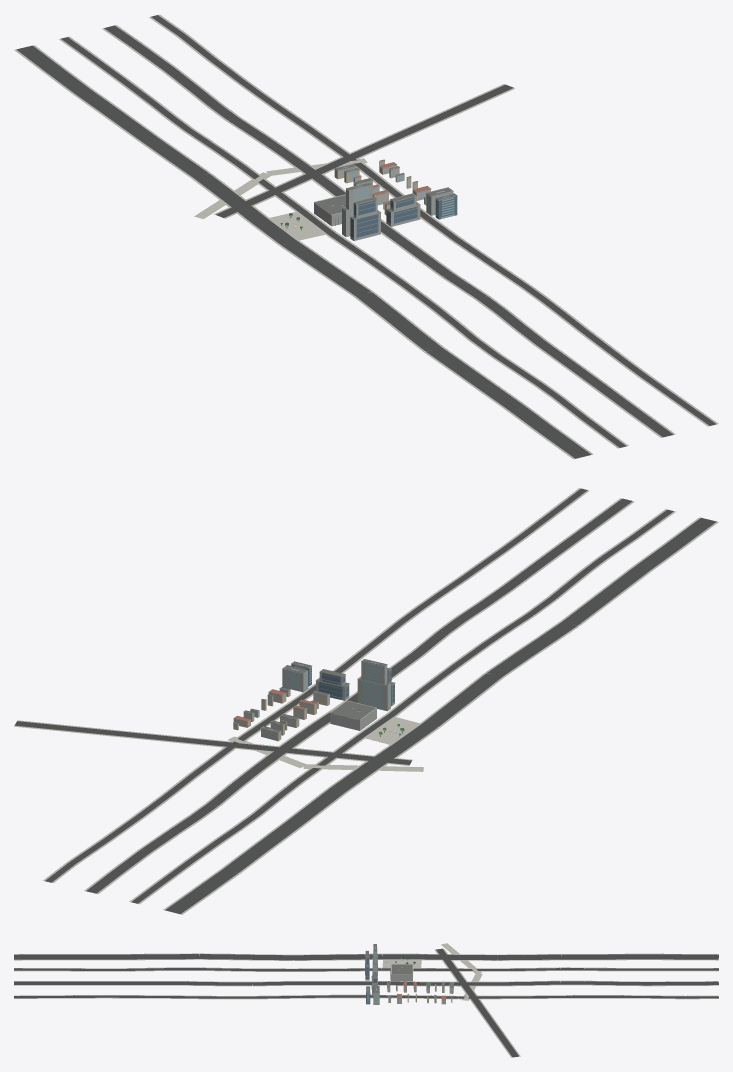
File: tile-p001-p000.glb
The picture shows the model from 3 angles, top to bottom: view 1: azimuth 30°, elevation 25°; view 2: azimuth 150°, elevation 25°; view 3: azimuth 270°, elevation 25°; orthographic projection. The views are drawn at different scales.
Parts seen in each view (by area): view 1: road-v-12-mesh-1, road-v-14-mesh-5, road-v-13-mesh-3, road-v-15-mesh-7, road-v-13-mesh-2, road-v-12-mesh-0, road-v-15-mesh-6, road-v-14-mesh-4, road-radial-1-0-mesh-9, road-radial-1-0-mesh-8, plaza-block-206-mesh-12; view 2: road-v-12-mesh-1, road-v-14-mesh-5, road-v-13-mesh-3, road-v-15-mesh-7, road-v-13-mesh-2, road-v-12-mesh-0, road-v-15-mesh-6, road-v-14-mesh-4, road-radial-1-0-mesh-9, road-radial-1-0-mesh-8, plaza-block-206-mesh-12, building-0871-mesh-22; view 3: road-v-12-mesh-1, road-v-14-mesh-5, road-v-15-mesh-7, road-v-13-mesh-3, road-v-12-mesh-0, road-v-15-mesh-6, road-v-14-mesh-4, road-v-13-mesh-2, road-radial-1-0-mesh-9, road-radial-1-0-mesh-8, plaza-block-206-mesh-12, road-pedestrian-civic-mesh-11 (+1 smaller).
Boxes of the visible parts, x1=… form: road-v-12-mesh-1: x1=16, y1=45, x2=591, y2=458; road-v-14-mesh-5: x1=104, y1=25, x2=673, y2=437; road-v-13-mesh-3: x1=61, y1=37, x2=626, y2=447; road-v-15-mesh-7: x1=151, y1=15, x2=716, y2=425; road-v-13-mesh-2: x1=59, y1=36, x2=628, y2=448; road-v-12-mesh-0: x1=14, y1=45, x2=593, y2=459; road-v-15-mesh-6: x1=149, y1=14, x2=718, y2=426; road-v-14-mesh-4: x1=102, y1=25, x2=675, y2=437; road-radial-1-0-mesh-9: x1=216, y1=84, x2=513, y2=217; road-radial-1-0-mesh-8: x1=214, y1=84, x2=515, y2=218; plaza-block-206-mesh-12: x1=267, y1=212, x2=324, y2=240; road-v-12-mesh-1: x1=165, y1=517, x2=716, y2=914; road-v-14-mesh-5: x1=86, y1=498, x2=632, y2=893; road-v-13-mesh-3: x1=131, y1=509, x2=673, y2=903; road-v-15-mesh-7: x1=45, y1=488, x2=587, y2=882; road-v-13-mesh-2: x1=129, y1=509, x2=675, y2=904; road-v-12-mesh-0: x1=163, y1=517, x2=718, y2=914; road-v-15-mesh-6: x1=43, y1=488, x2=589, y2=883; road-v-14-mesh-4: x1=84, y1=498, x2=634, y2=894; road-radial-1-0-mesh-9: x1=14, y1=721, x2=411, y2=764; road-radial-1-0-mesh-8: x1=14, y1=720, x2=412, y2=765; plaza-block-206-mesh-12: x1=365, y1=717, x2=421, y2=744; building-0871-mesh-22: x1=357, y1=677, x2=390, y2=711; road-v-12-mesh-1: x1=14, y1=954, x2=718, y2=960; road-v-14-mesh-5: x1=14, y1=981, x2=718, y2=985; road-v-15-mesh-7: x1=14, y1=995, x2=718, y2=998; road-v-13-mesh-3: x1=14, y1=968, x2=718, y2=971; road-v-12-mesh-0: x1=14, y1=953, x2=718, y2=960; road-v-15-mesh-6: x1=14, y1=994, x2=718, y2=999; road-v-14-mesh-4: x1=14, y1=980, x2=718, y2=986; road-v-13-mesh-2: x1=14, y1=967, x2=718, y2=971; road-radial-1-0-mesh-9: x1=436, y1=948, x2=518, y2=1057; road-radial-1-0-mesh-8: x1=434, y1=948, x2=520, y2=1057; plaza-block-206-mesh-12: x1=382, y1=959, x2=421, y2=967; road-pedestrian-civic-mesh-11: x1=442, y1=943, x2=480, y2=1000.
Bounding box in the file's own units: 615 × 72.13 × 1600.
